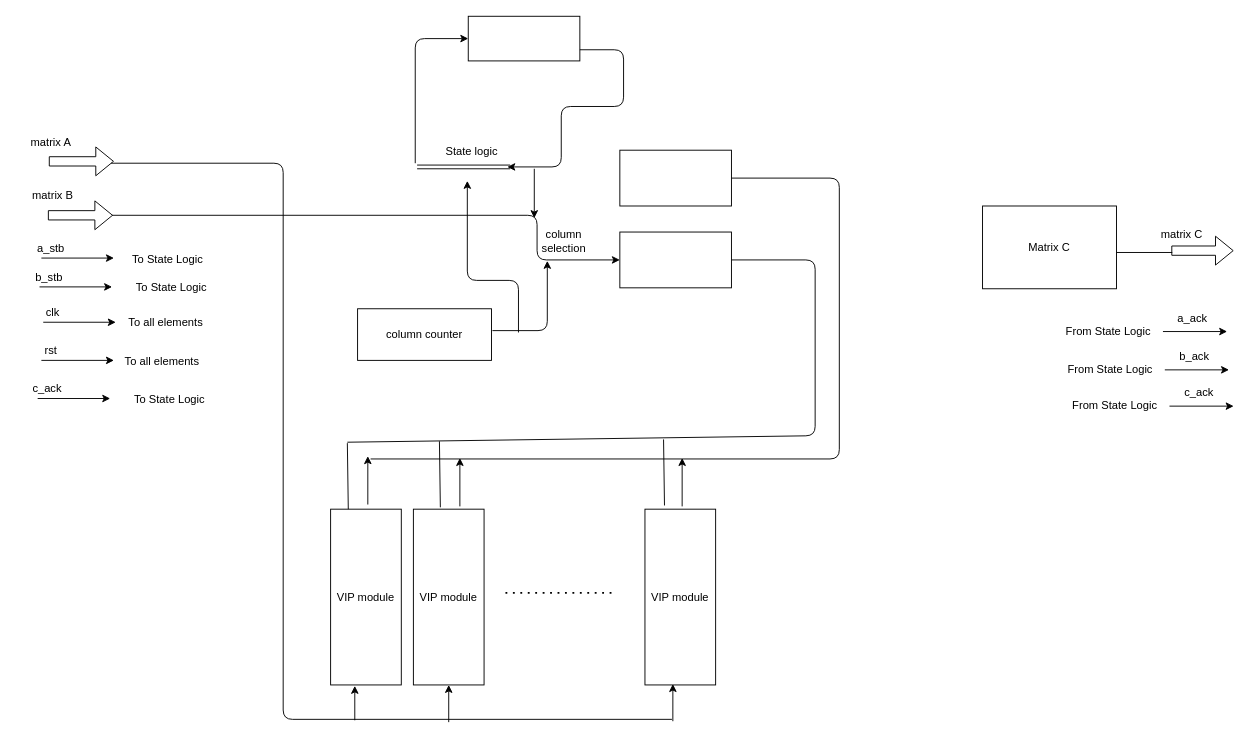
This 1257x746 diagram has some shape labels left out. The box of each missing label's shape, as (x1, y1, x2, y2) in pixels:
state (3bit): (467, 15, 580, 61)
VIP column(32*p bit): (619, 231, 731, 288)
VIP result(32*m bit): (619, 149, 731, 206)
